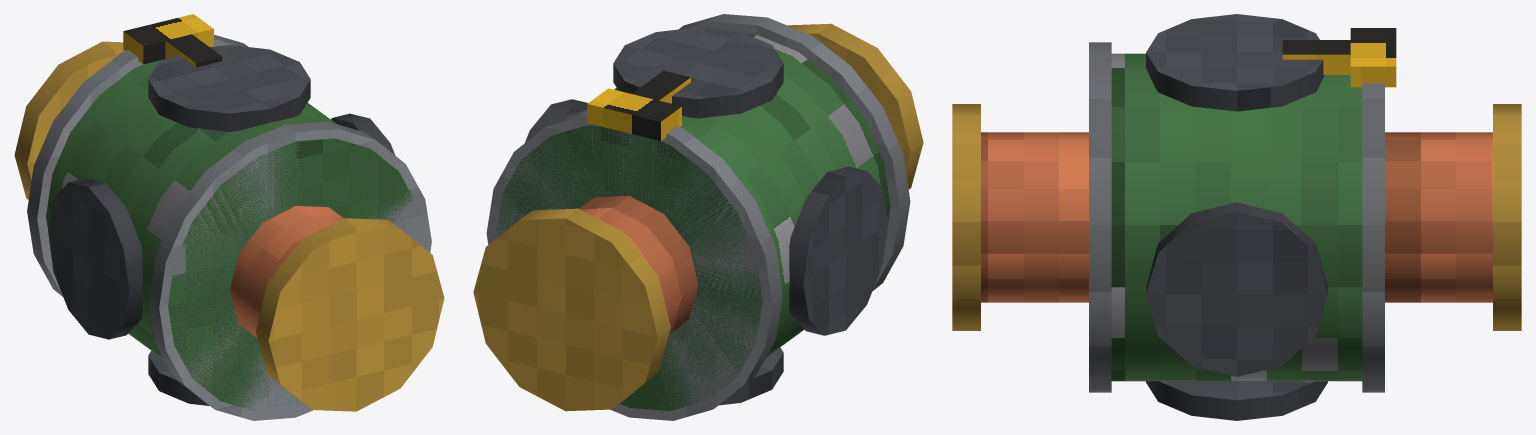
File: mechanical_pump.obj
The picture shows the model from 3 angles, left to right: view 1: azimuth 30°, elevation 25°; view 2: azimuth 150°, elevation 25°; view 3: azimuth 270°, elevation 25°; orthographic projection. The views are drawn at different scales.
Size of the model in its own units: 0.64 by 0.65 by 1.
